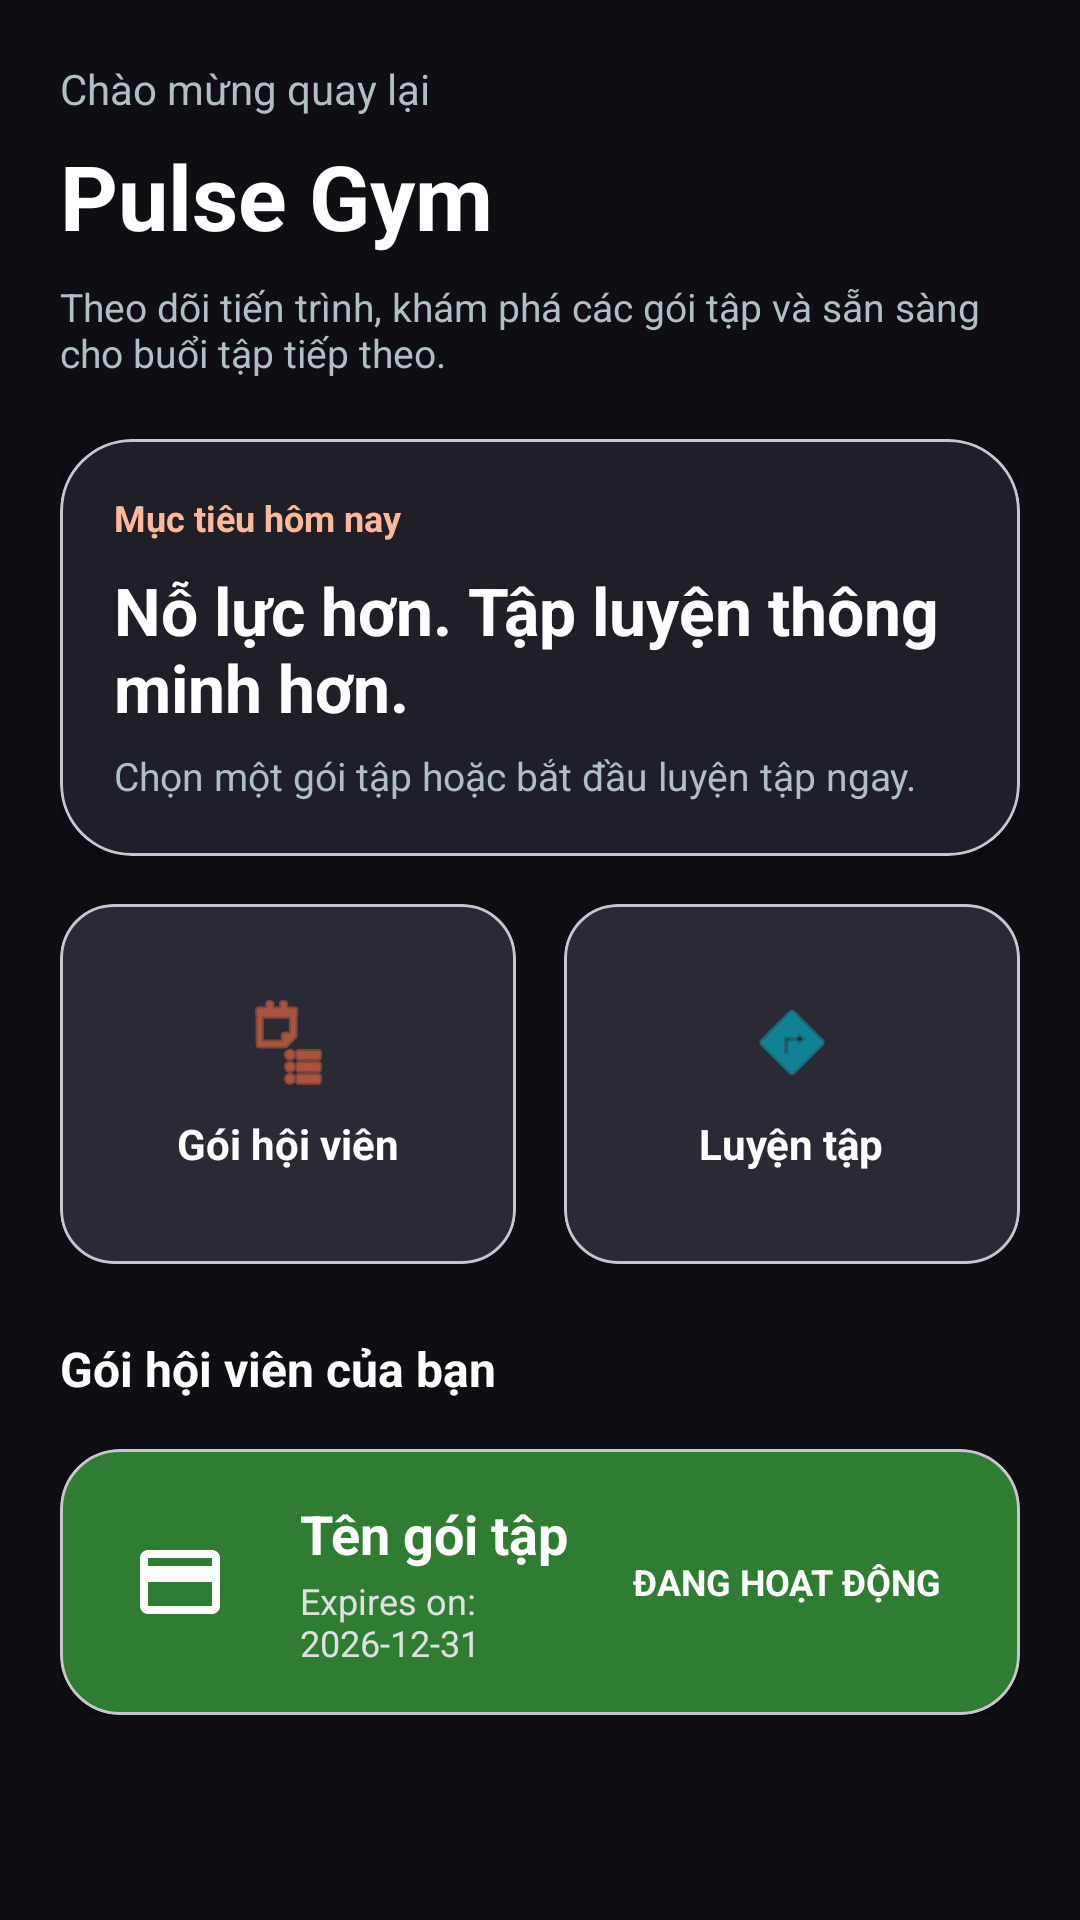

Screen size 1080px×1920px. Icon name, then its center in pixels as [x,y]:
membership: [180,1582]
